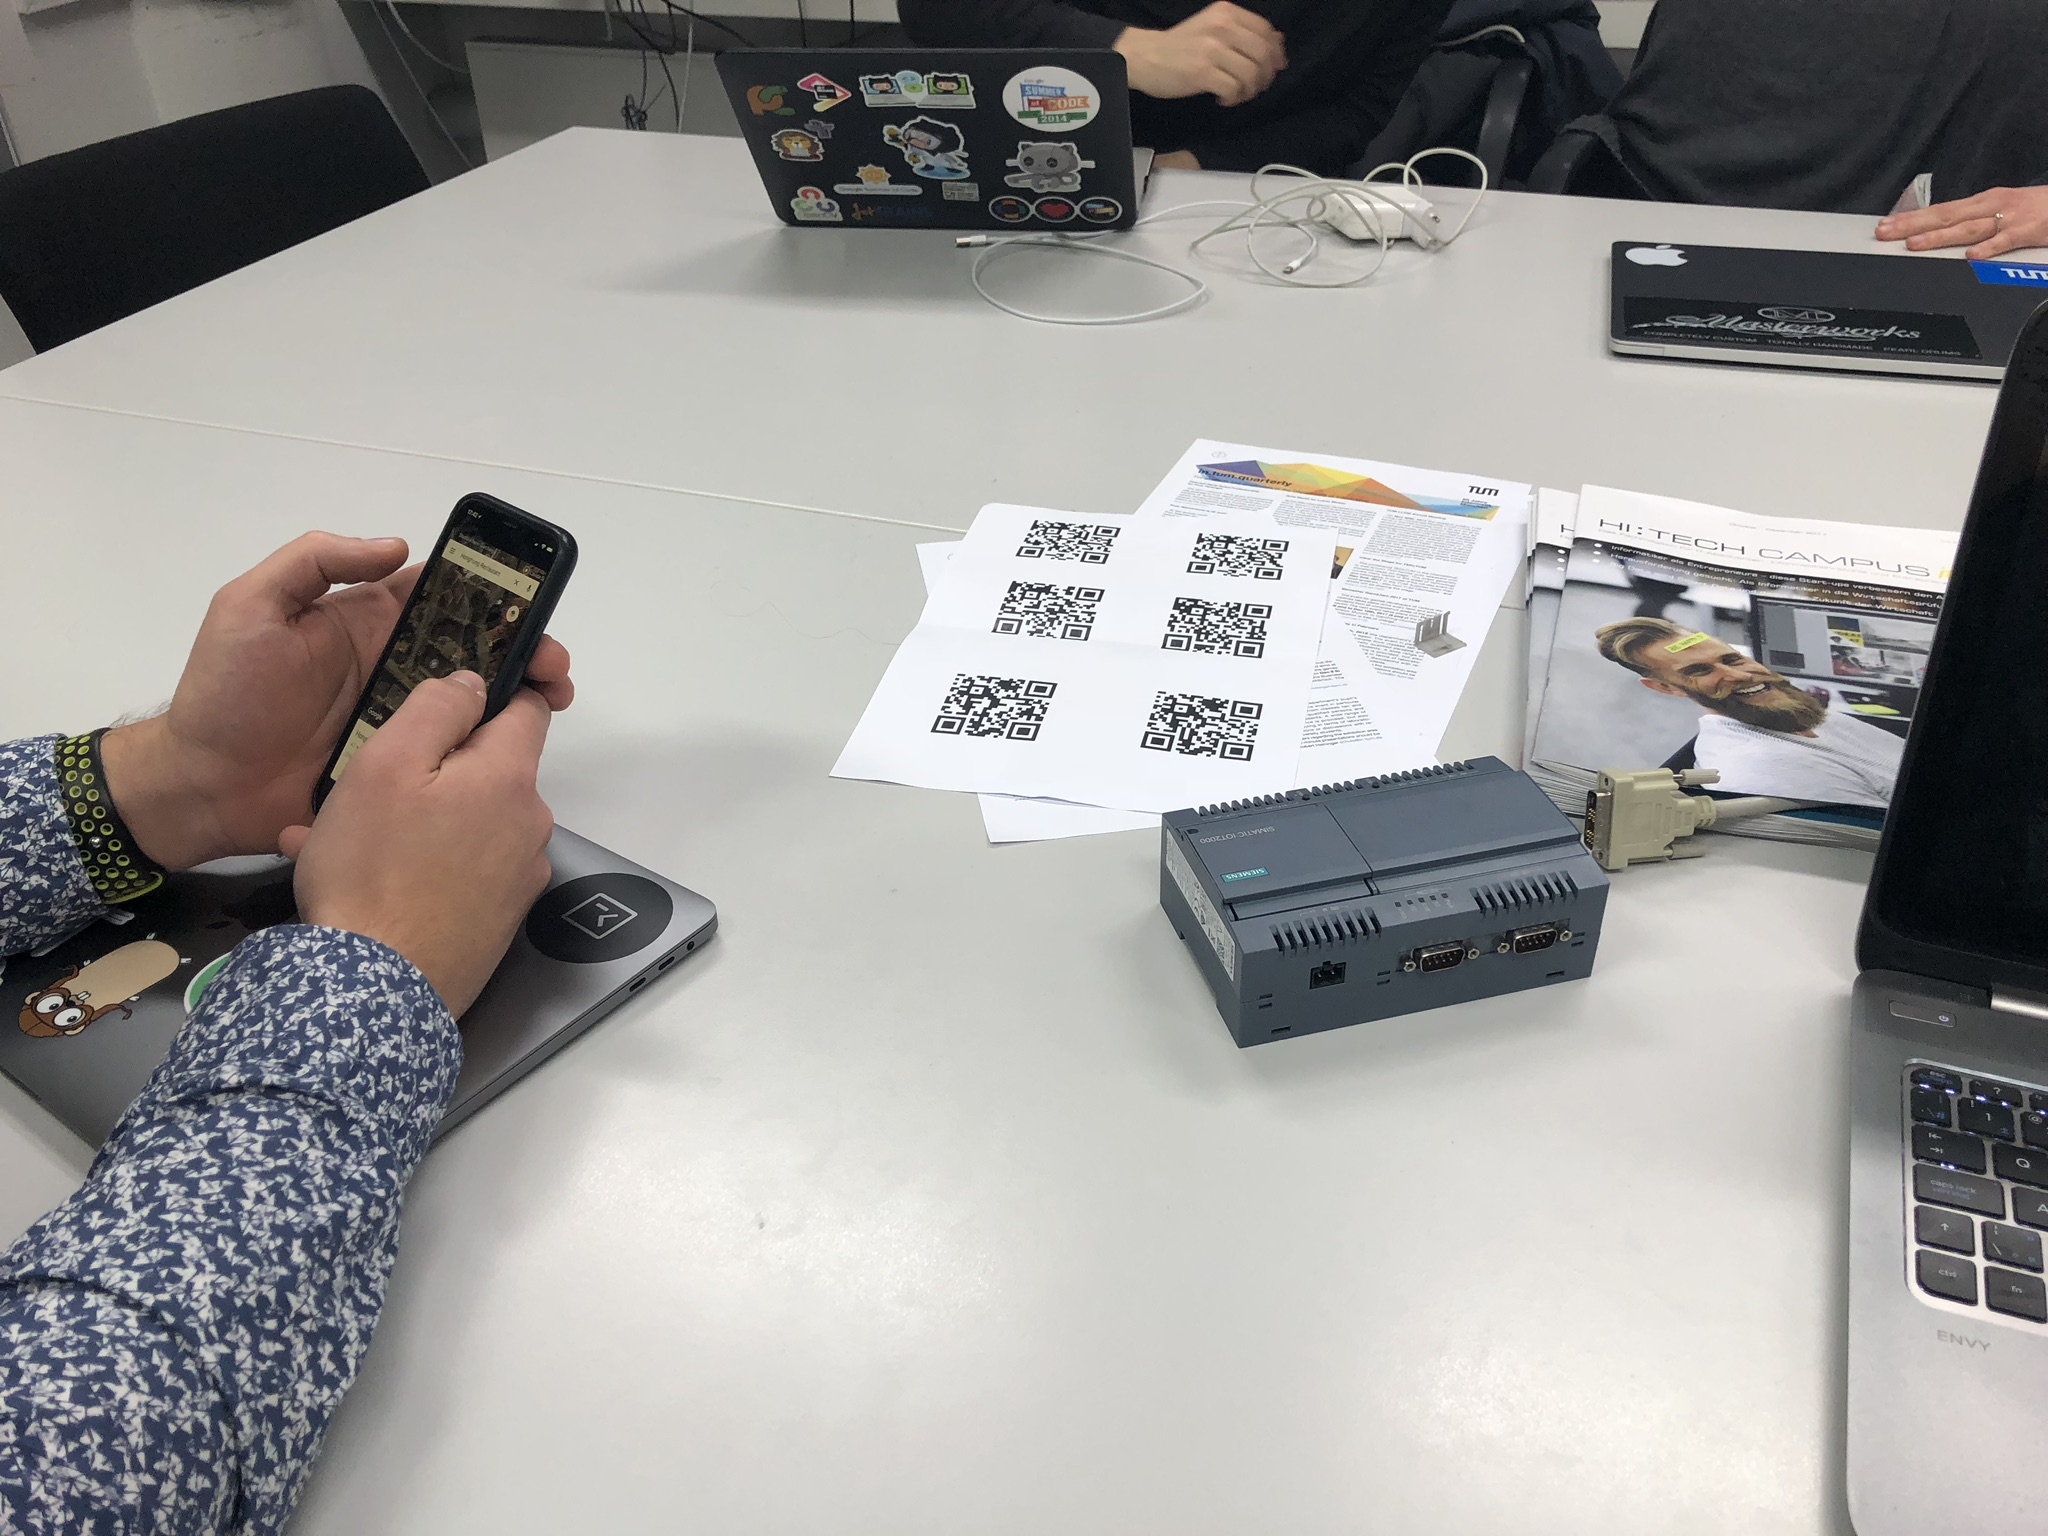device: (1159, 755, 1611, 1050)
